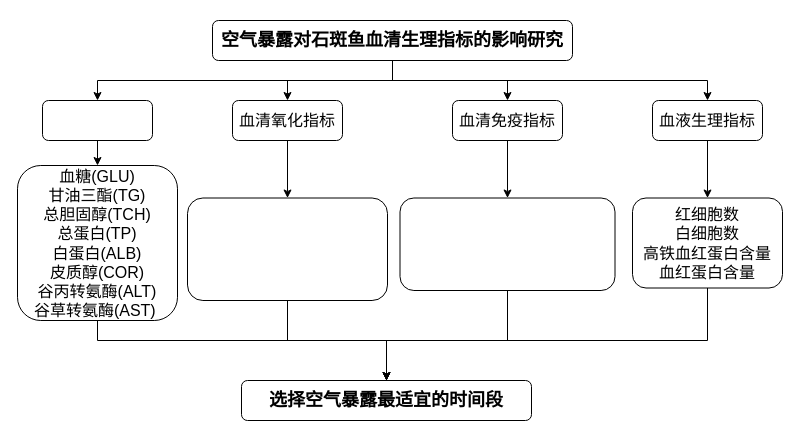
This 800x440 diagram has some shape labels left out. The box of each missing label's shape, as (x1, y1, x2, y2) in pixels:
溶菌酶活性( LZM) 补体(C3、C4) 热休克蛋白(HSP90、HSP70) 抗体(IgM): (399, 197, 615, 290)
血清生化指标: (42, 100, 152, 140)
过氧化氢酶（CAT） 谷胱甘肽 ( GSH ) 谷胱甘肽过氧化氢酶(GPX) 超氧化物歧化酶（SOD） 丙二醛（MDA）: (186, 197, 388, 300)
